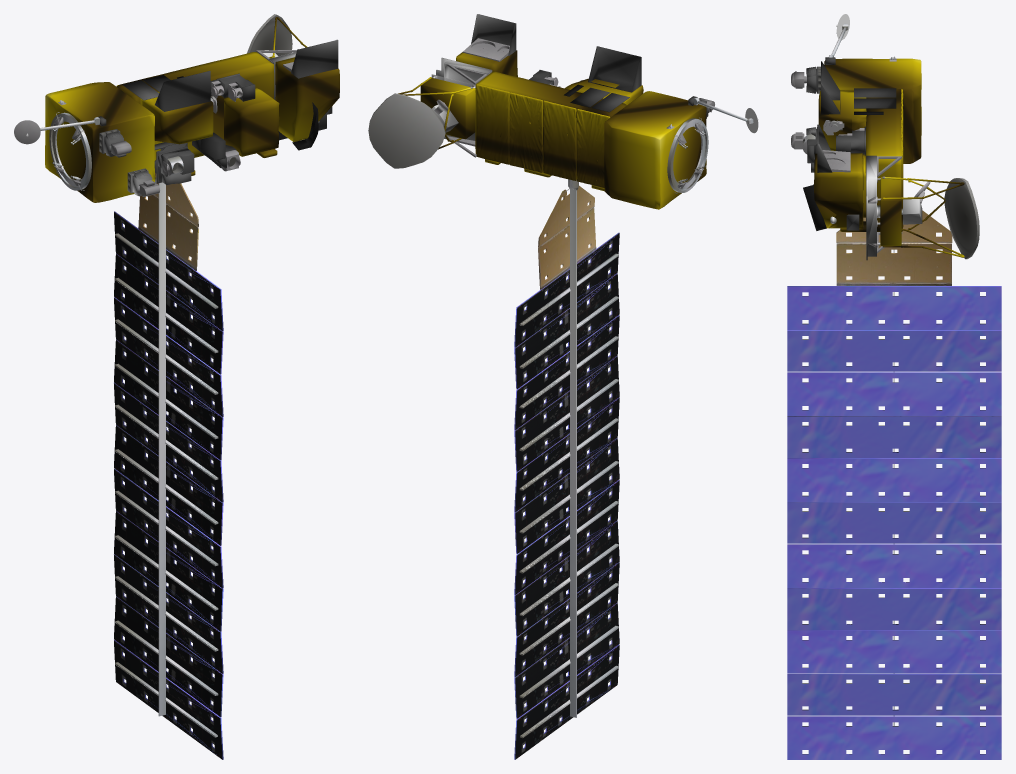
Rendered from Aqua (B).glb.
The picture shows the model from 3 angles, left to right: view 1: azimuth 30°, elevation 25°; view 2: azimuth 150°, elevation 25°; view 3: azimuth 270°, elevation 25°; orthographic projection. The views are drawn at different scales.
Parts seen in each view (by area): view 1: tex_01, foil_gold, foil_silver, shiny_panel; view 2: tex_01, foil_gold, gold_2, foil_silver, shiny_panel; view 3: shiny_panel, foil_gold, tex_01, foil_silver, black_krinkle.
Boxes of the visible parts, <box> form: tex_01: <box>14,14,319,759</box>; foil_gold: <box>45,17,339,202</box>; foil_silver: <box>98,39,338,196</box>; shiny_panel: <box>114,211,223,759</box>; tex_01: <box>368,38,758,759</box>; foil_gold: <box>398,50,706,209</box>; gold_2: <box>476,84,610,187</box>; foil_silver: <box>431,14,711,140</box>; shiny_panel: <box>514,232,619,759</box>; shiny_panel: <box>787,286,1001,759</box>; foil_gold: <box>814,58,964,257</box>; tex_01: <box>787,14,1001,754</box>; foil_silver: <box>795,57,922,260</box>; black_krinkle: <box>803,111,883,230</box>.
Size of the model in its own units: 9.4 by 17.78 by 5.08.
5 materials, 4 textured.
